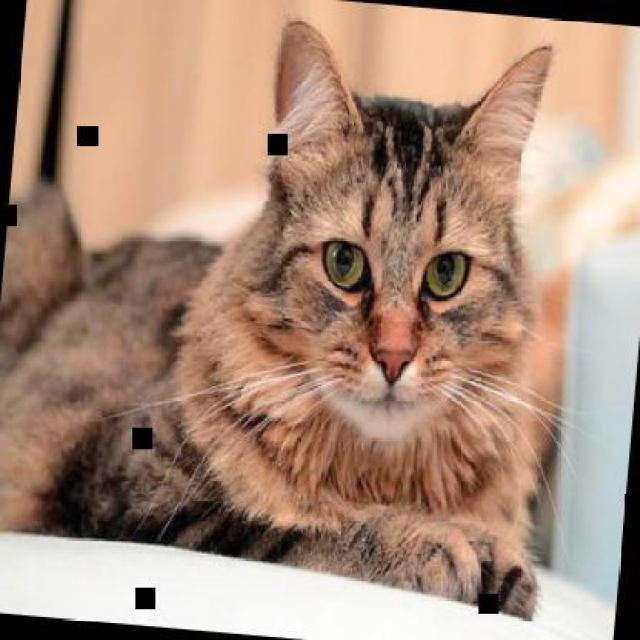cat: (0, 0, 588, 626)
